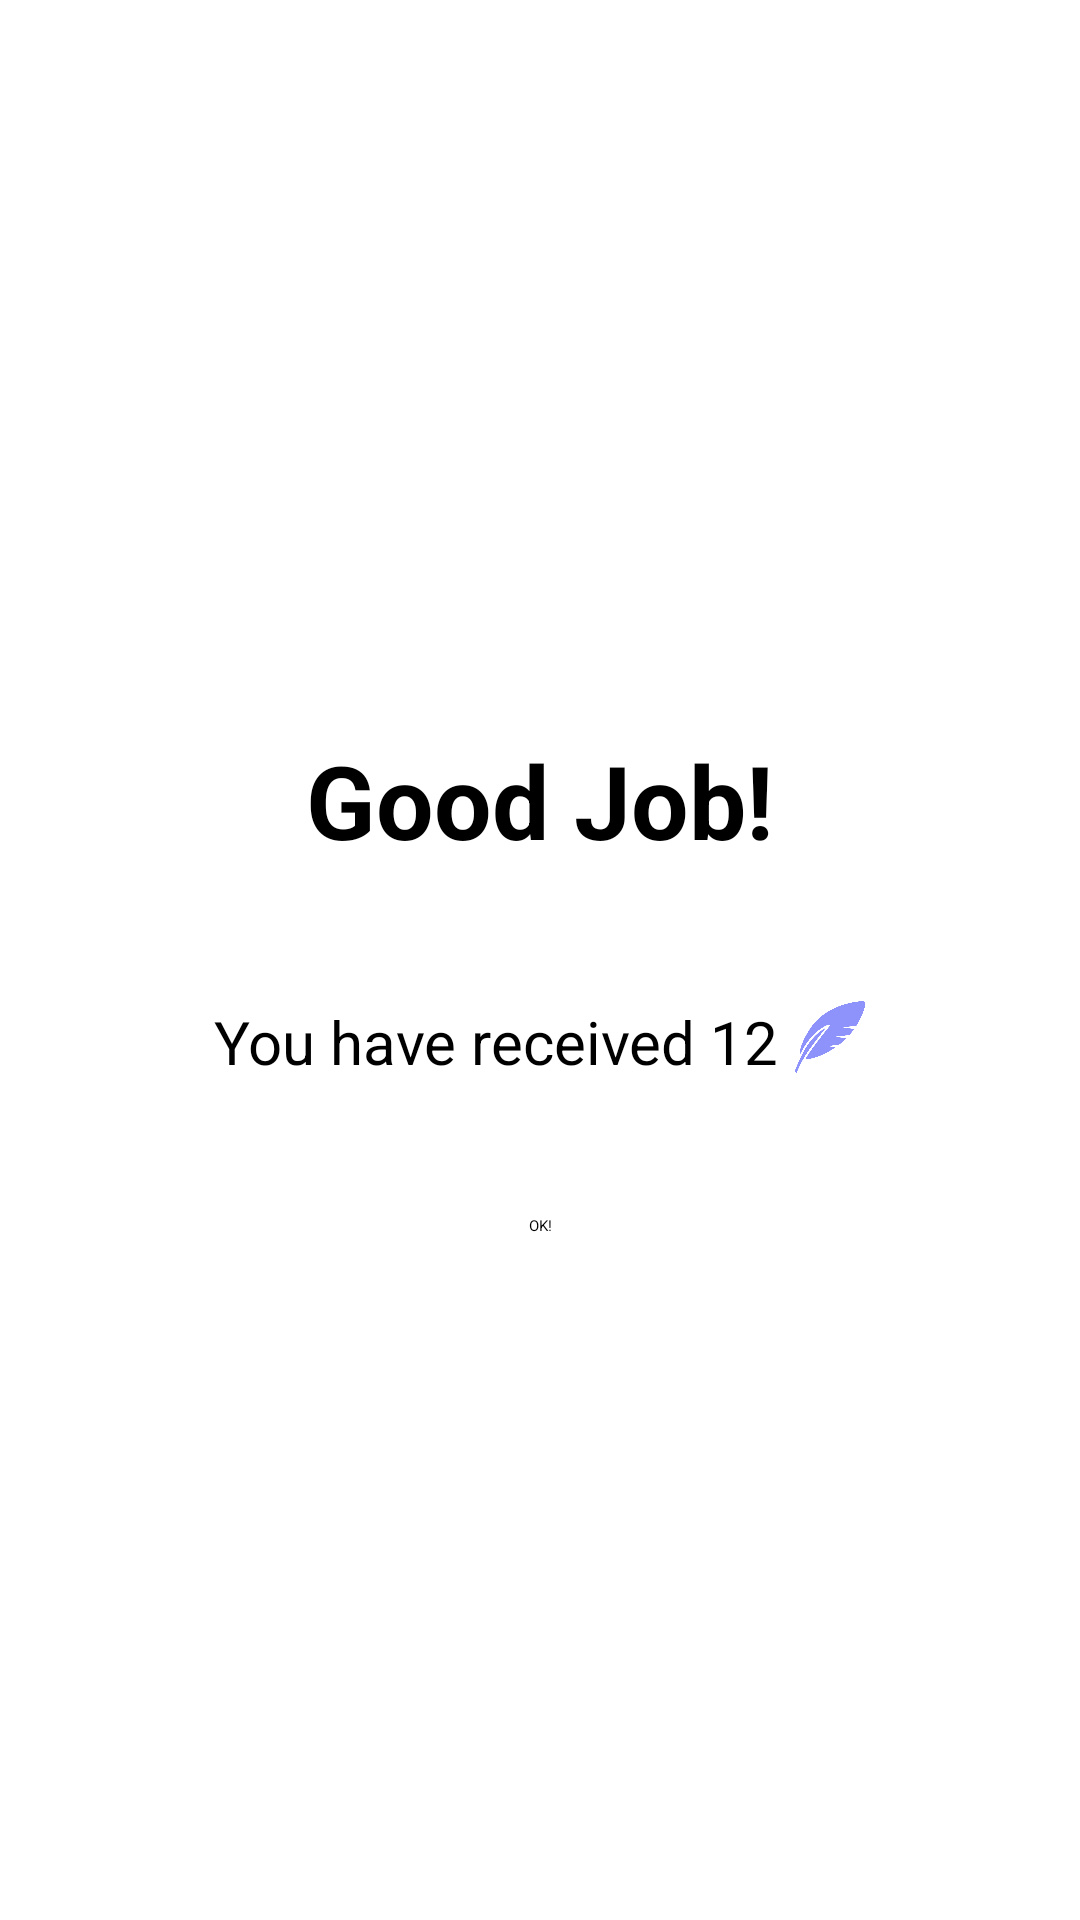

Named icons in this screenshot (1080 × 1920) and their centers, point (x, y):
feather: point (830, 1037)
